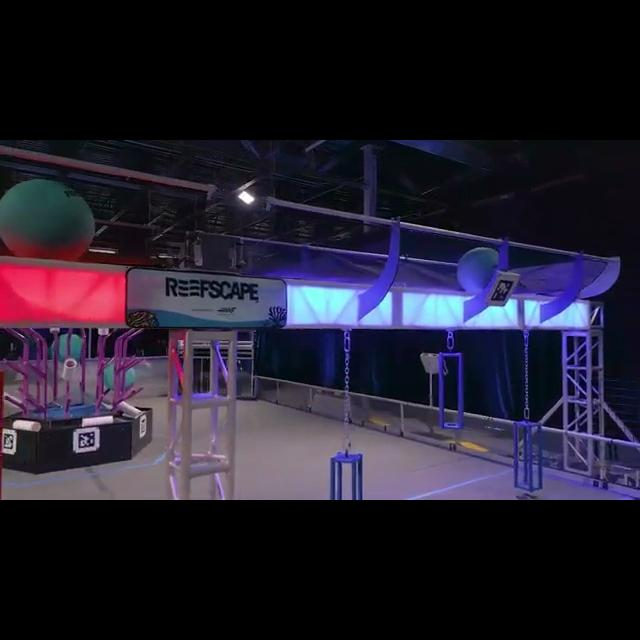ALGAE: (0, 176, 96, 260), (456, 247, 502, 293)
